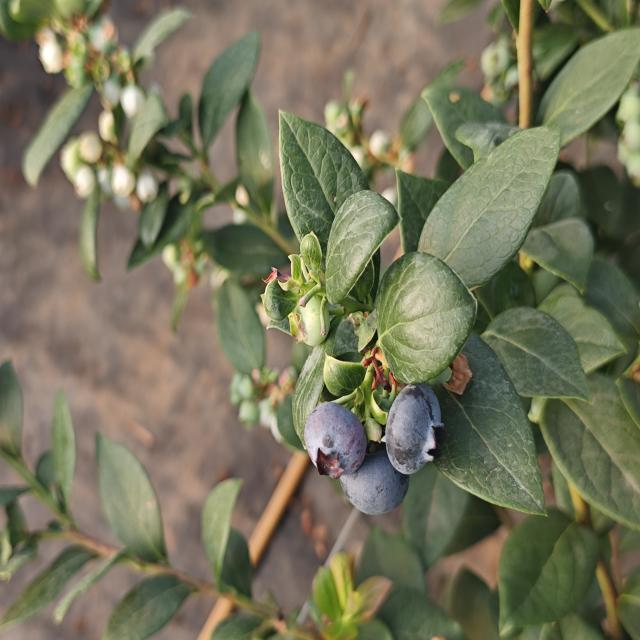ripe: (382, 381, 445, 478), (301, 400, 368, 482), (338, 448, 411, 519)
